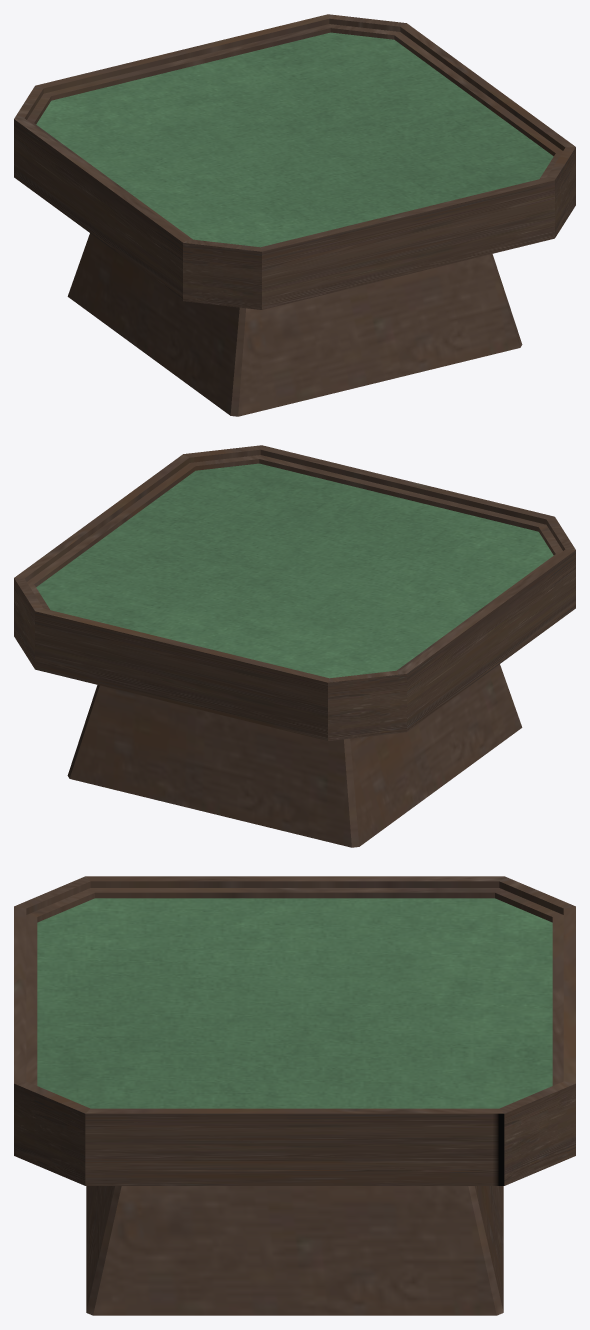
File: table.glb
3 renders of one model, top to bottom at view 1: azimuth 30°, elevation 25°; view 2: azimuth 150°, elevation 25°; view 3: azimuth 270°, elevation 25°, orthographic. The views are drawn at different scales.
Parts seen in each view (by area): view 1: Table; view 2: Table; view 3: Table.
Boxes of the visible parts, x1,y1,x2,y2 form: Table: [14, 14, 575, 416]; Table: [14, 445, 575, 847]; Table: [14, 876, 575, 1315].
Size of the model in its own units: 1.29 by 0.5905 by 1.29.
Materials: 1 (1 with a texture image).
